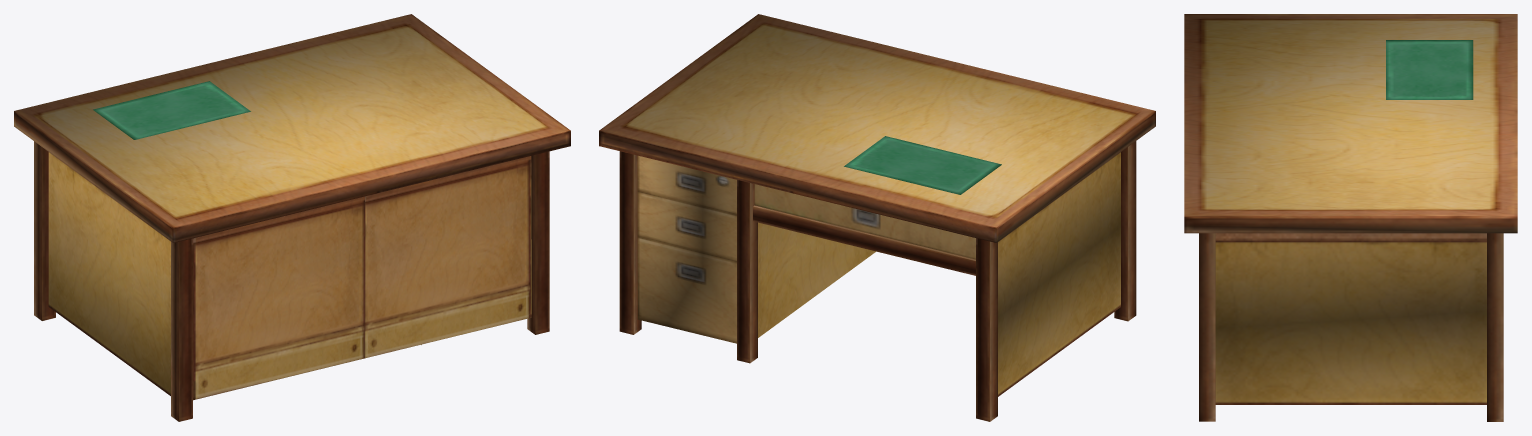
Rendered from a_SWldesk02.glb.
3 renders of one model, left to right at view 1: azimuth 30°, elevation 25°; view 2: azimuth 150°, elevation 25°; view 3: azimuth 270°, elevation 25°, orthographic. The views are drawn at different scales.
Visible parts, largest first — view 1: a_SWldesk02; view 2: a_SWldesk02; view 3: a_SWldesk02.
Boxes of the visible parts, x1,y1,x2,y2 form: a_SWldesk02: [14, 14, 570, 421]; a_SWldesk02: [599, 14, 1155, 421]; a_SWldesk02: [1184, 14, 1517, 421].
Size of the model in its own units: 2.21 by 1.09 by 1.54.
Materials: 1 (1 with a texture image).
